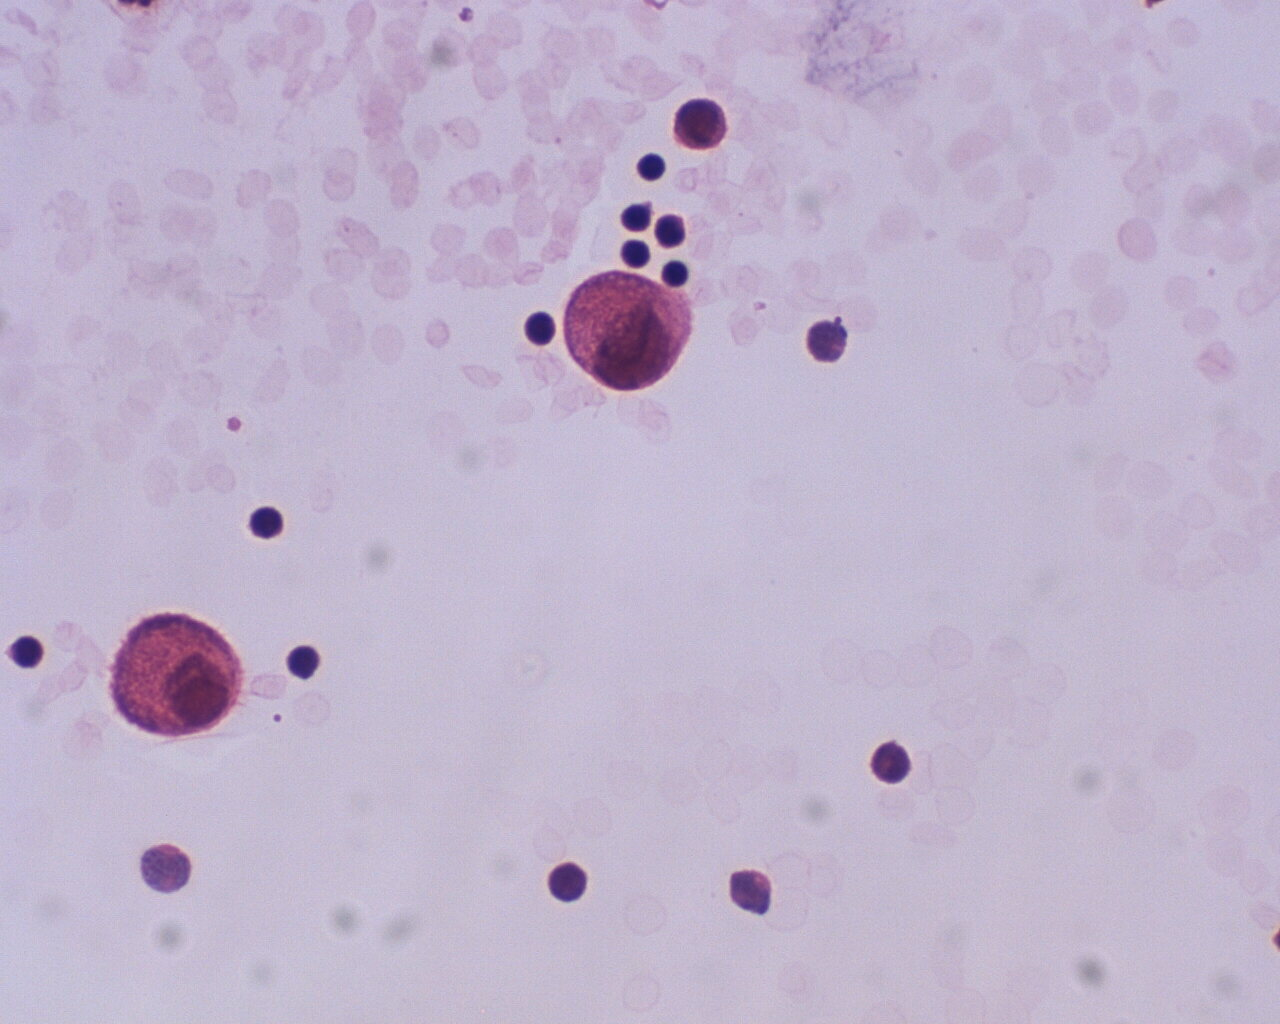ab: (552, 267, 695, 399), (670, 93, 734, 154)
histo: (104, 609, 245, 744)
lymph: (240, 495, 293, 550), (544, 855, 594, 908), (279, 638, 327, 686), (517, 309, 564, 351), (630, 146, 669, 187), (615, 237, 657, 272)
